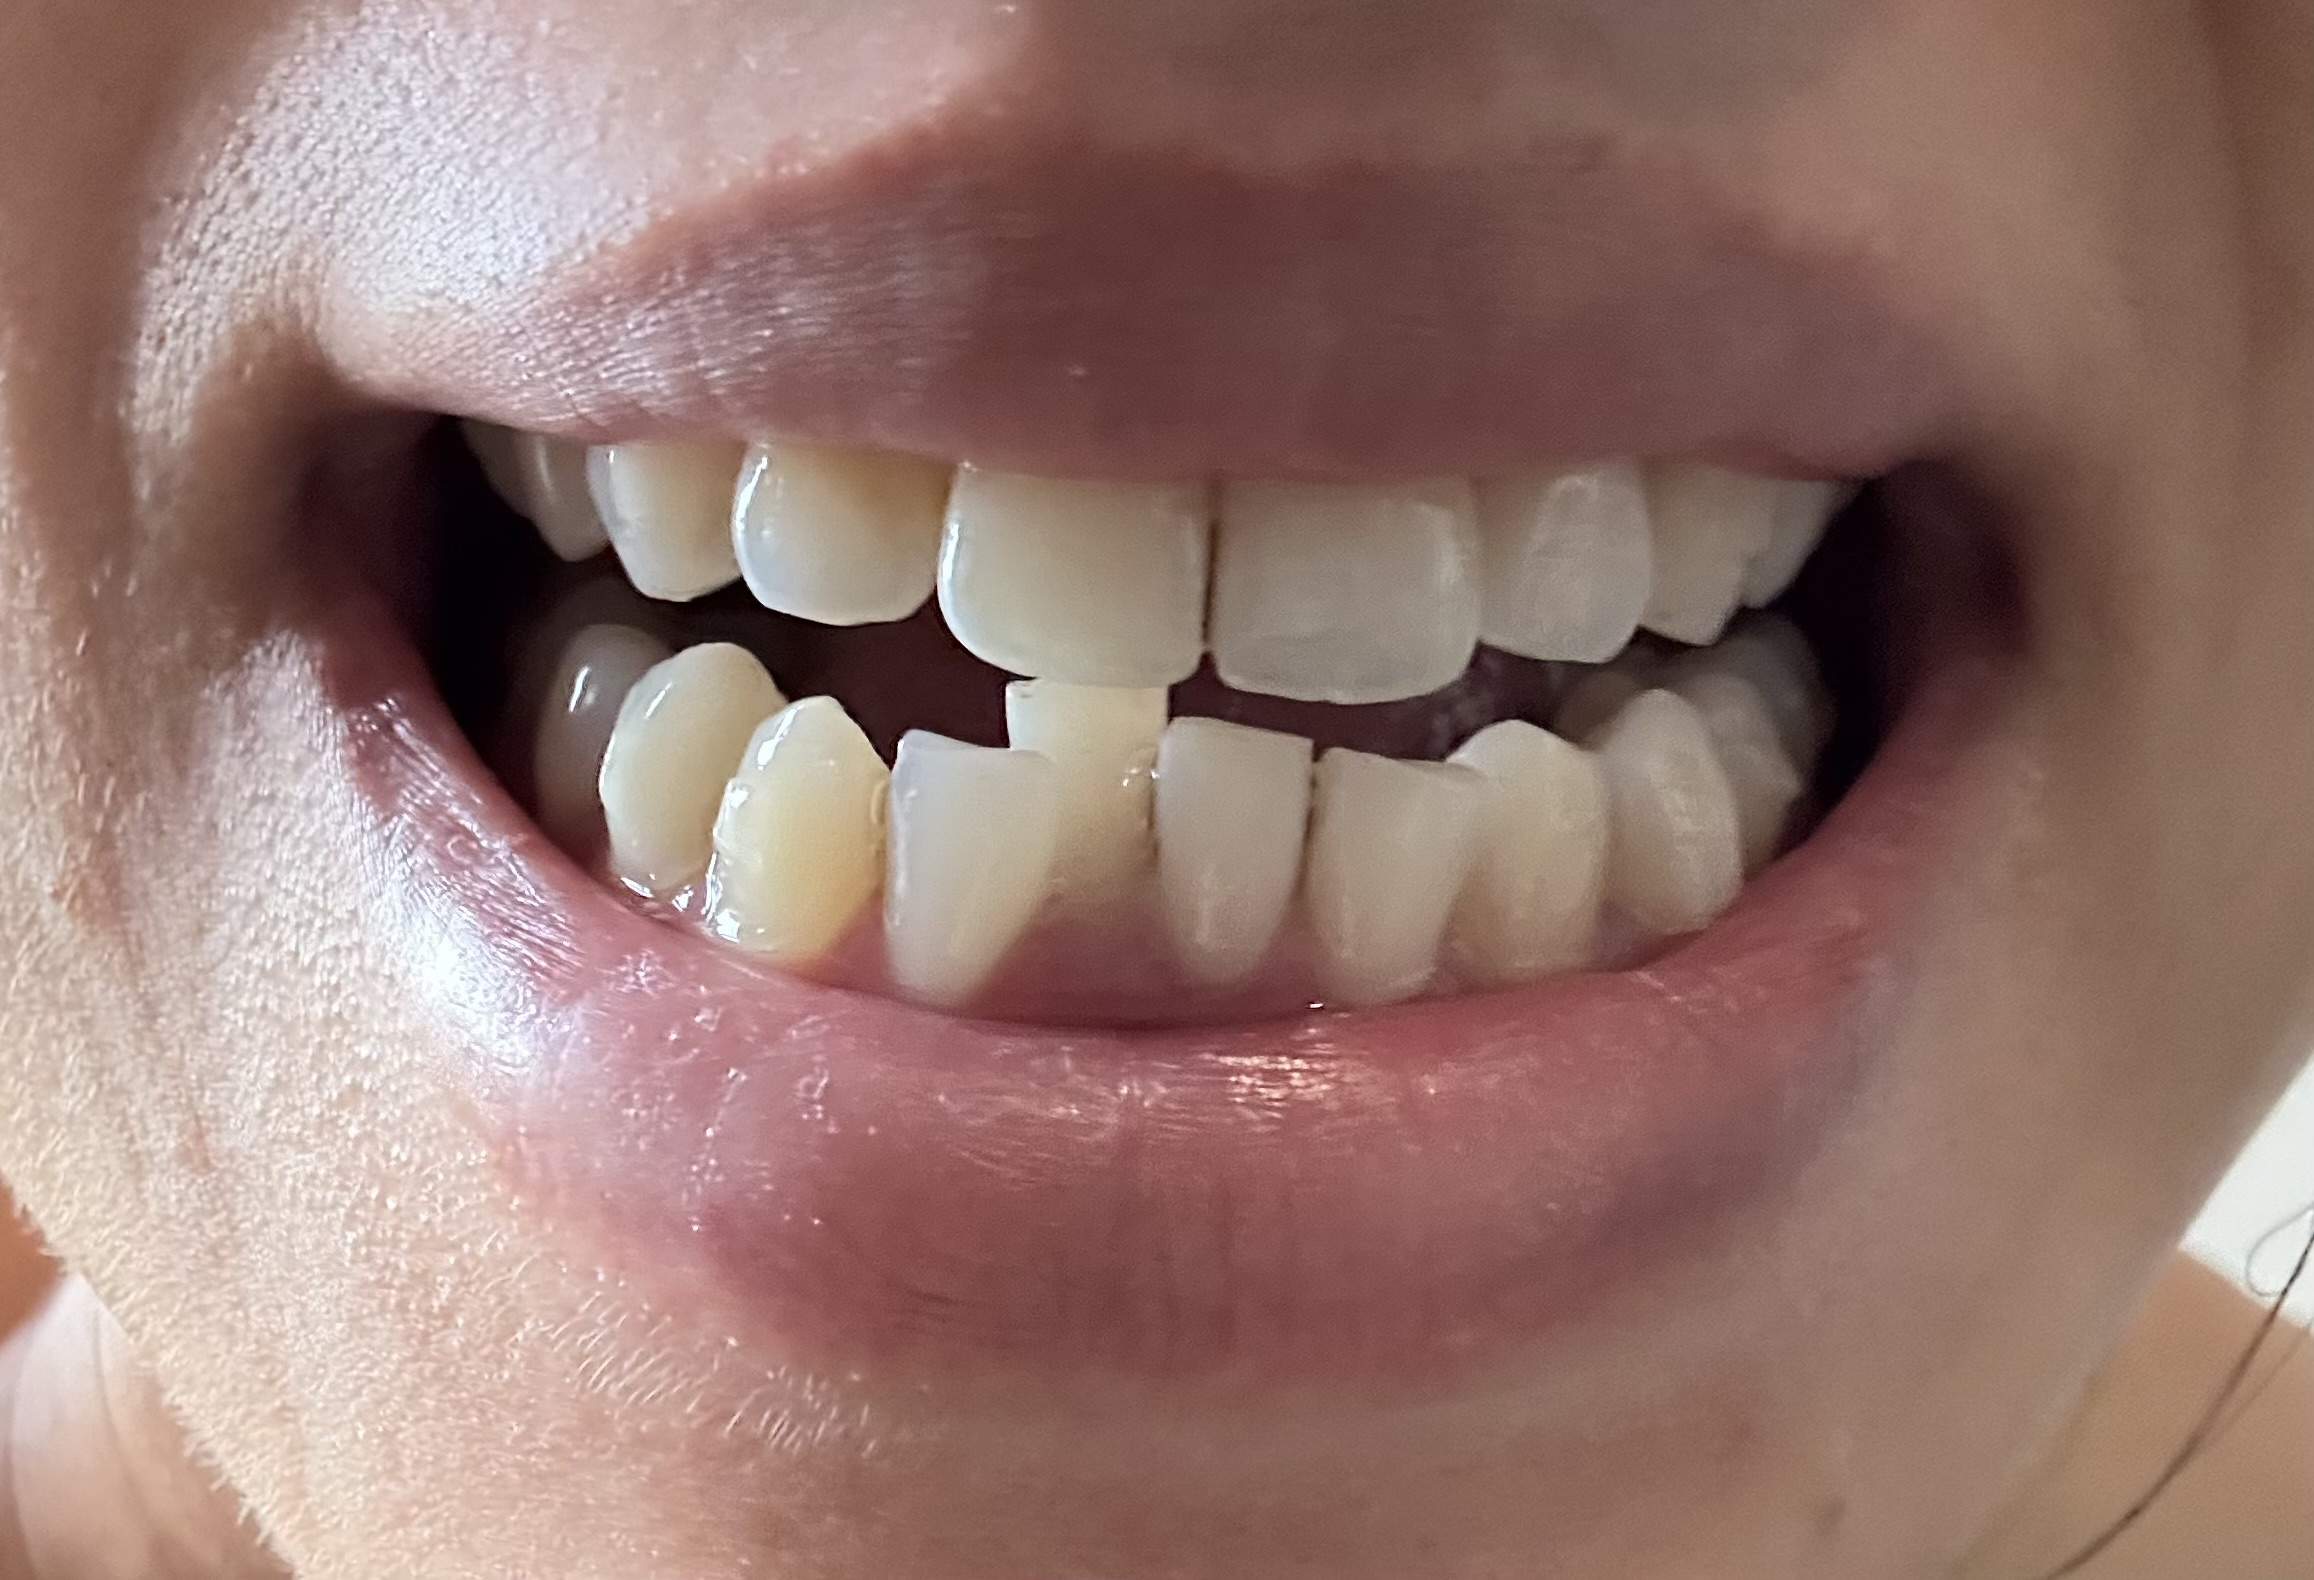teeth: (937, 476, 1210, 687), (1219, 492, 1479, 701), (891, 736, 1059, 1004), (703, 703, 869, 965), (1468, 712, 1618, 968), (1152, 728, 1306, 975), (1583, 687, 1735, 933), (600, 650, 774, 865), (1321, 752, 1472, 997), (733, 441, 941, 613), (1013, 684, 1173, 896), (1486, 464, 1656, 656), (593, 438, 730, 603), (1648, 469, 1774, 638)
